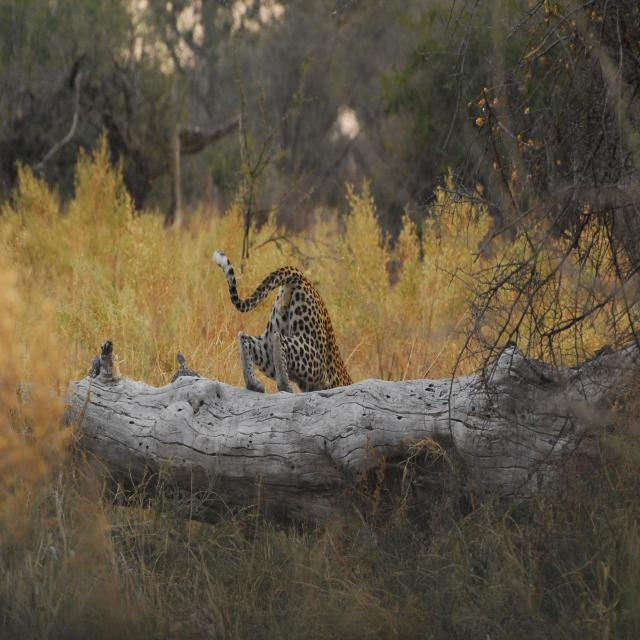Leopard: (216, 256, 357, 421)
